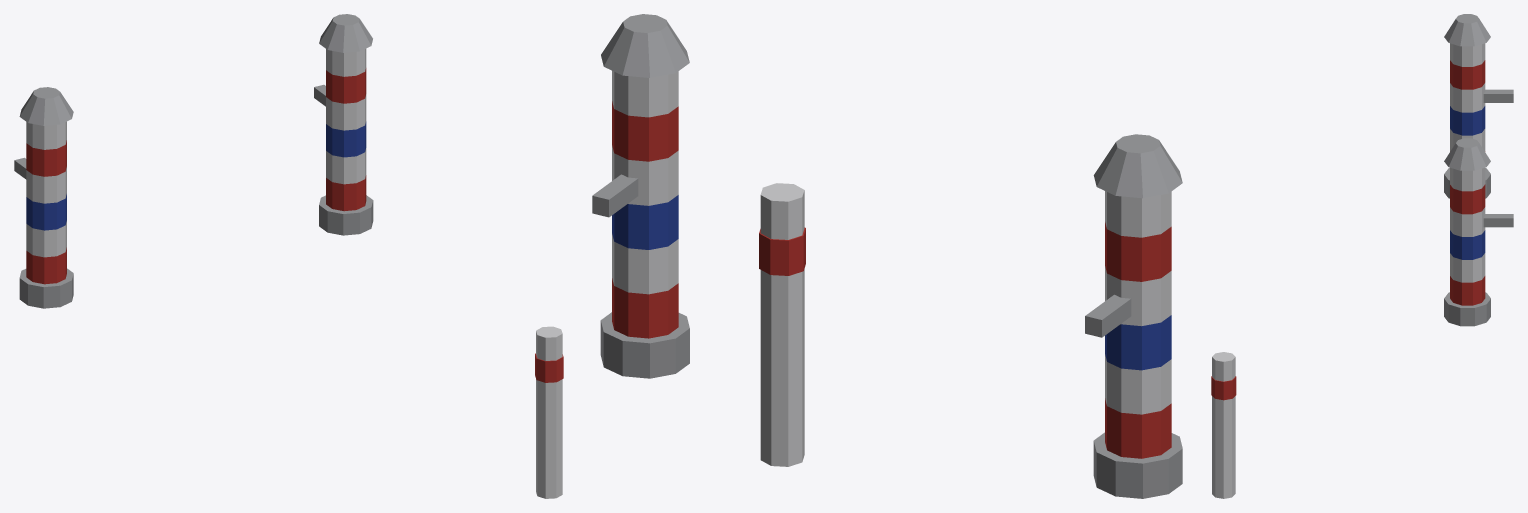
Rendered from barbier_props_a.glb.
The picture shows the model from 3 angles, left to right: view 1: azimuth 30°, elevation 25°; view 2: azimuth 150°, elevation 25°; view 3: azimuth 270°, elevation 25°; orthographic projection. The views are drawn at different scales.
Parts seen in each view (by area): view 1: barbier_props_a; view 2: barbier_props_a; view 3: barbier_props_a.
Part boxes in pixels (box(x1,y1,x2,y2)): barbier_props_a: box(14, 14, 563, 498); barbier_props_a: box(592, 14, 1182, 498); barbier_props_a: box(1211, 14, 1513, 498).
Size of the model in its own units: 2.31 by 2.14 by 1.8.
